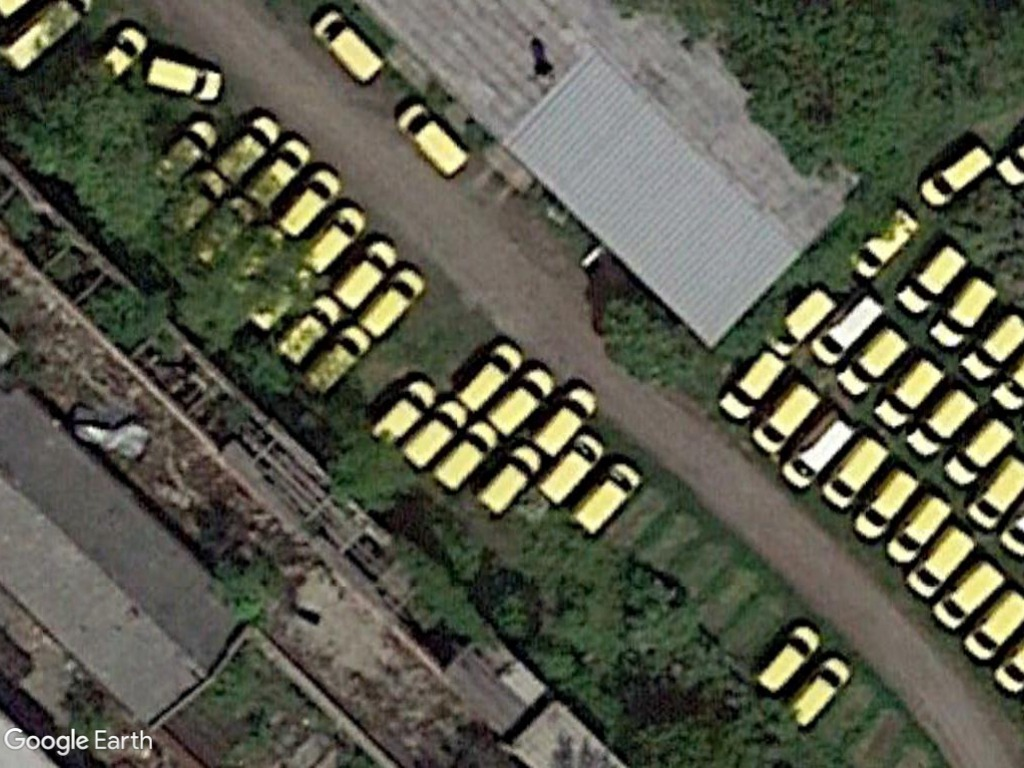van: (396, 98, 470, 181), (805, 291, 884, 368), (778, 410, 854, 490), (871, 351, 946, 432), (846, 463, 920, 545), (714, 342, 788, 423), (569, 456, 642, 538), (310, 6, 385, 85), (834, 324, 913, 399), (295, 200, 369, 280), (212, 107, 285, 188), (368, 373, 442, 451), (356, 263, 428, 343), (243, 130, 314, 211), (939, 415, 1012, 493), (925, 558, 1005, 629), (754, 618, 826, 696), (896, 240, 968, 318), (431, 416, 503, 493), (902, 523, 974, 600), (881, 491, 952, 569), (455, 335, 525, 414), (764, 285, 839, 358), (815, 434, 888, 509), (904, 385, 977, 460), (528, 381, 600, 457), (273, 164, 343, 242), (785, 651, 855, 729), (916, 141, 998, 207), (745, 380, 819, 453), (397, 396, 468, 472), (476, 441, 544, 520), (332, 234, 400, 312), (931, 274, 1000, 349), (486, 364, 556, 437), (537, 431, 607, 504), (962, 589, 1024, 662), (142, 52, 228, 104)
